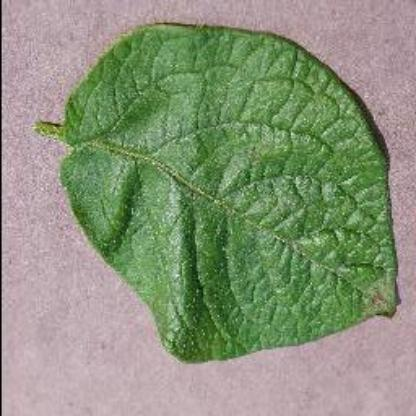Healthy-plant: (26, 22, 408, 366)
